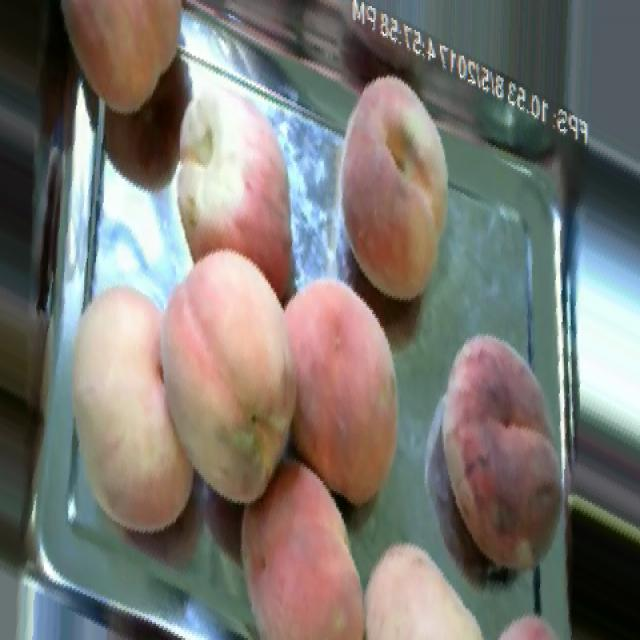Fruit: (144, 240, 317, 526), (60, 266, 216, 552), (421, 320, 572, 586), (267, 260, 413, 521), (207, 439, 393, 640), (320, 60, 465, 314), (150, 88, 302, 312), (344, 528, 512, 640), (48, 0, 184, 125)
